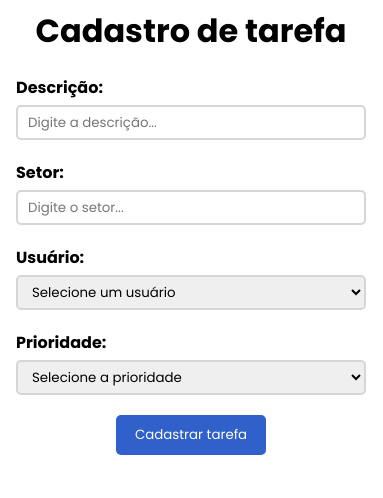
Scenario: CadTarefa - testes completos › Erro se usuário não for selecionado
In the field labelled "Descrição:": (191, 122) [16,105,366,140], type "Descrição"
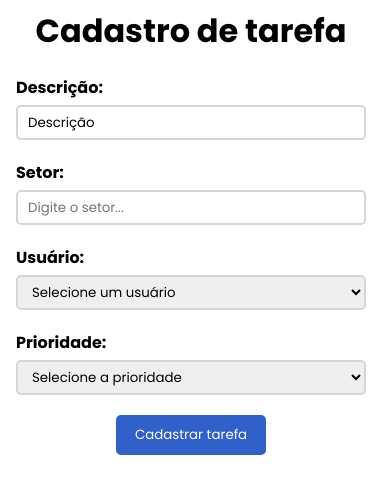
In the field labelled "Setor:": (191, 208) [16,190,366,225], type "TI"
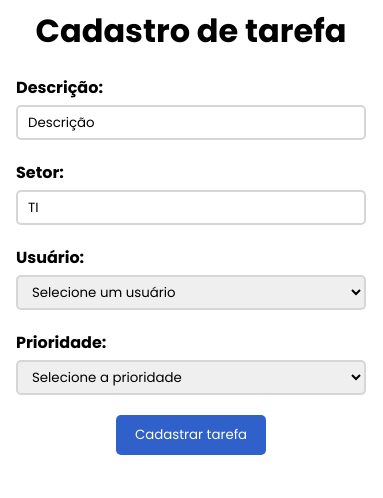
Select "Alta" in the dropdown labelled "Prioridade:": (191, 378) [16,360,366,395]
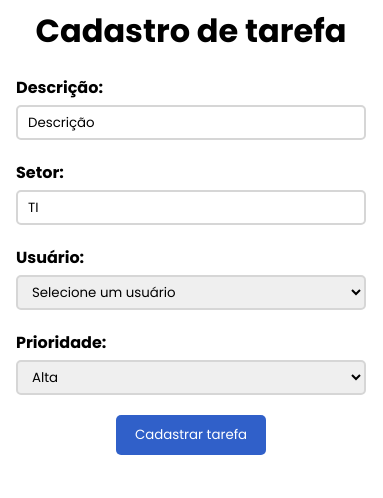
Click the button "Cadastrar tarefa": (191, 435) [116,415,266,455]
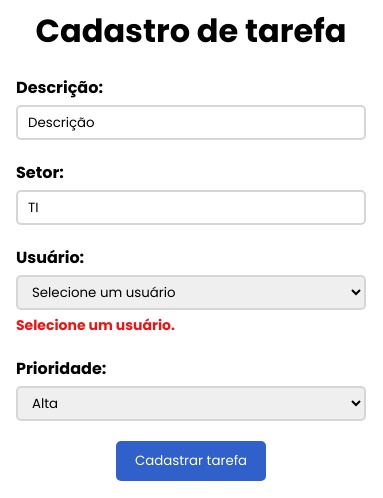
Check: the text "Selecione um usuário." is shown, box [16,315,175,335]
